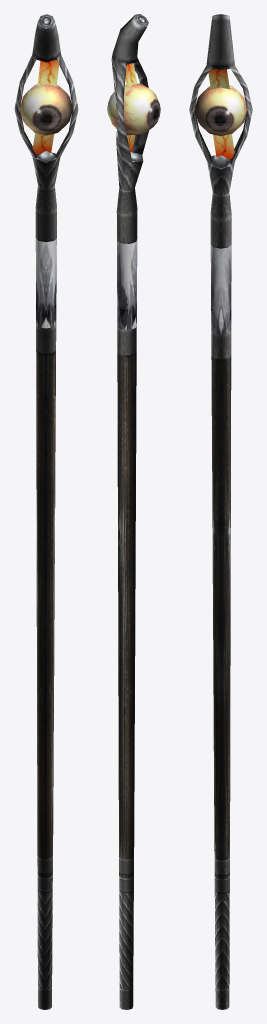
The model's file is rank_jang_2_M.glb.
3 views of the same model, side by side, from view 1: azimuth 90°, elevation 25°; view 2: azimuth 150°, elevation 25°; view 3: azimuth 270°, elevation 25° (orthographic).
Parts seen in each view (by area): view 1: weapon; view 2: weapon; view 3: weapon.
Part boxes in pixels (x1,y1,x2,y2): weapon: (14, 14, 78, 1009); weapon: (107, 14, 160, 1009); weapon: (189, 14, 252, 1009).
Size of the model in its own units: 1.02 by 20.95 by 1.22.
1 material, 1 textured.
